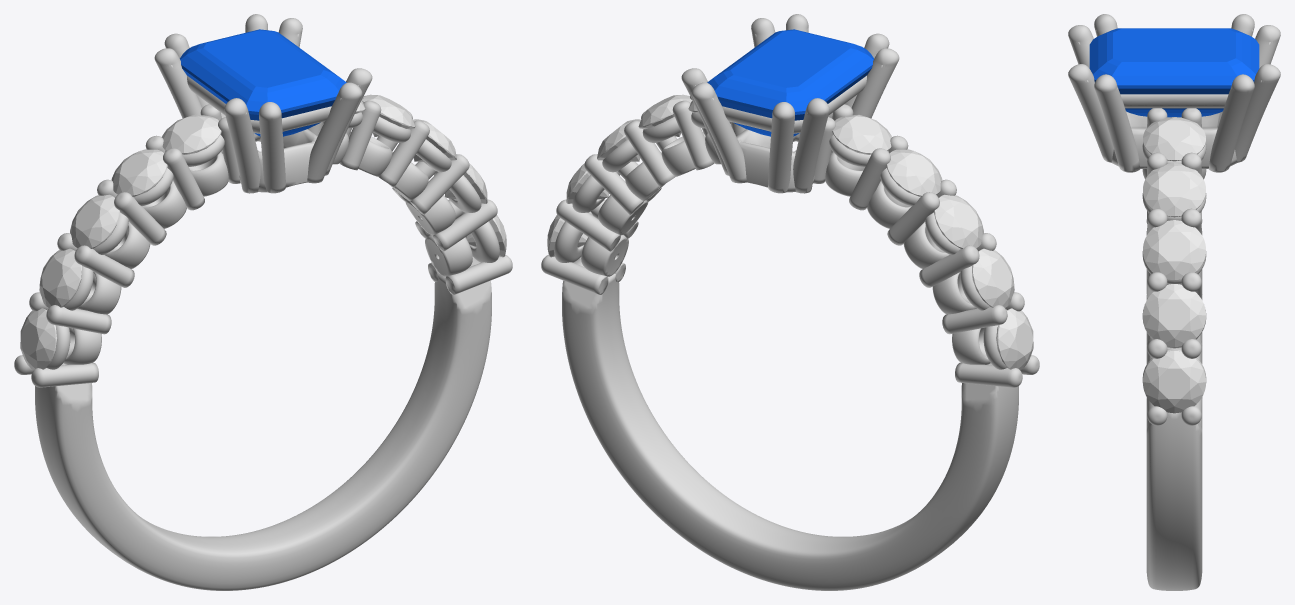
The model's file is bluesapphire-emerald-platinum-8prong-straightband-11stone.glb.
The picture shows the model from 3 angles, left to right: view 1: azimuth 30°, elevation 25°; view 2: azimuth 150°, elevation 25°; view 3: azimuth 270°, elevation 25°; orthographic projection.
Visible parts, largest first — view 1: metal.001, stone, side.004, side.005, side.003, side, side.006, side.010; view 2: metal.001, stone, side.004, side.005, side.003, side, side.006, side.010; view 3: metal.001, stone, side.008, side.007, side.009, side.010, side.011.
Part boxes in pixels (bbox=[...]): metal.001: bbox=[14, 14, 512, 590]; stone: bbox=[180, 29, 346, 136]; side.004: bbox=[70, 194, 119, 248]; side.005: bbox=[111, 149, 167, 196]; side.003: bbox=[39, 248, 81, 307]; side: bbox=[20, 308, 57, 369]; side.006: bbox=[162, 114, 221, 154]; side.010: bbox=[361, 94, 415, 137]; metal.001: bbox=[541, 14, 1039, 590]; stone: bbox=[707, 29, 873, 136]; side.004: bbox=[934, 194, 983, 248]; side.005: bbox=[886, 149, 942, 196]; side.003: bbox=[972, 248, 1014, 307]; side: bbox=[996, 308, 1033, 369]; side.006: bbox=[832, 114, 891, 154]; side.010: bbox=[638, 94, 692, 137]; metal.001: bbox=[1068, 14, 1280, 590]; stone: bbox=[1089, 28, 1259, 117]; side.008: bbox=[1143, 284, 1205, 346]; side.007: bbox=[1143, 350, 1205, 413]; side.009: bbox=[1143, 220, 1205, 280]; side.010: bbox=[1143, 163, 1205, 217]; side.011: bbox=[1143, 117, 1205, 161].
Size of the model in its own units: 21.87 by 22.75 by 8.4.
